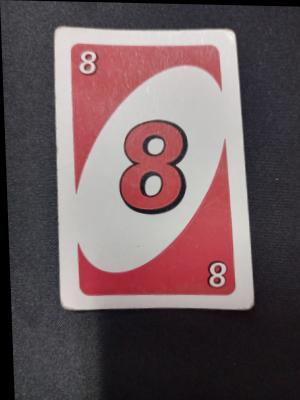num_8: (110, 114, 192, 217), (197, 254, 229, 291), (73, 45, 106, 78)
